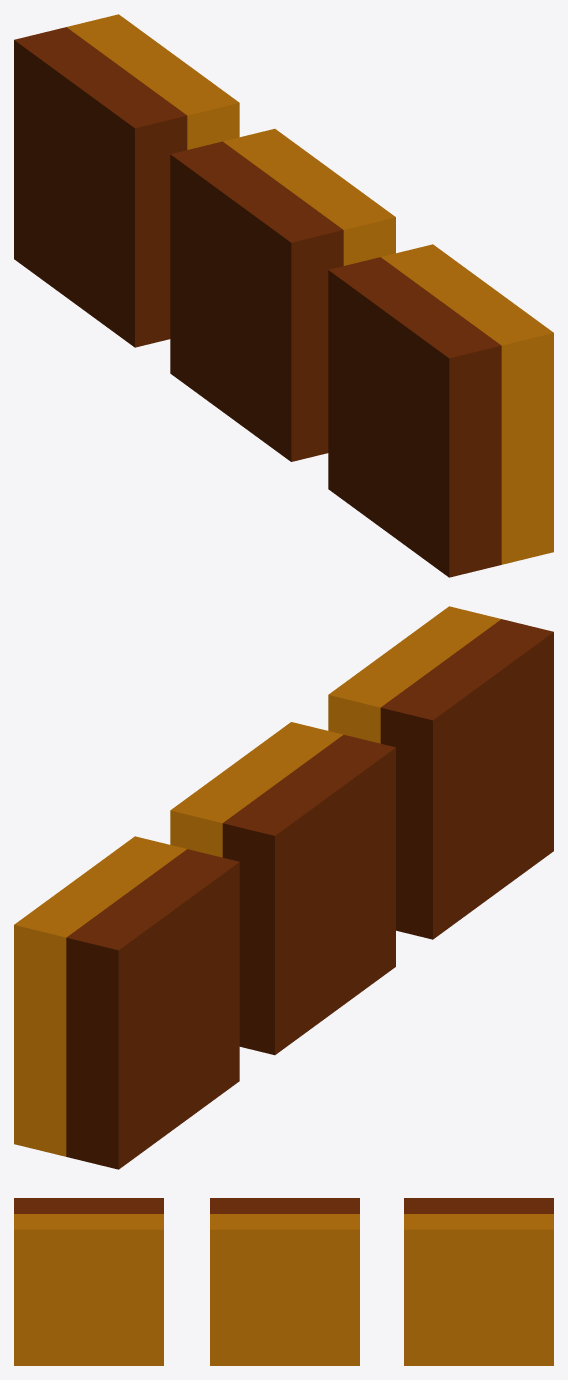
Rendered from linear.glb.
The picture shows the model from 3 angles, top to bottom: view 1: azimuth 30°, elevation 25°; view 2: azimuth 150°, elevation 25°; view 3: azimuth 270°, elevation 25°; orthographic projection. The views are drawn at different scales.
Parts seen in each view (by area): view 1: linear; view 2: linear; view 3: linear.
Part boxes in pixels (<box>): linear: <box>14,14,553,577</box>; linear: <box>14,606,553,1169</box>; linear: <box>14,1198,553,1365</box>.
Size of what is drawn, in the model's own units: 0.0236 by 0.0473 by 0.1701.
2 materials, 2 textured.
